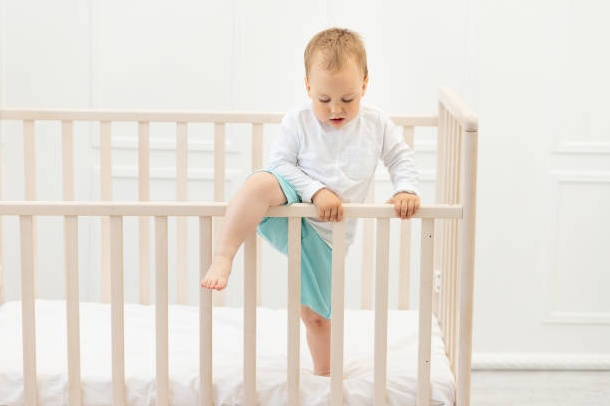baby: (201, 28, 419, 374)
crib: (0, 89, 477, 405)
